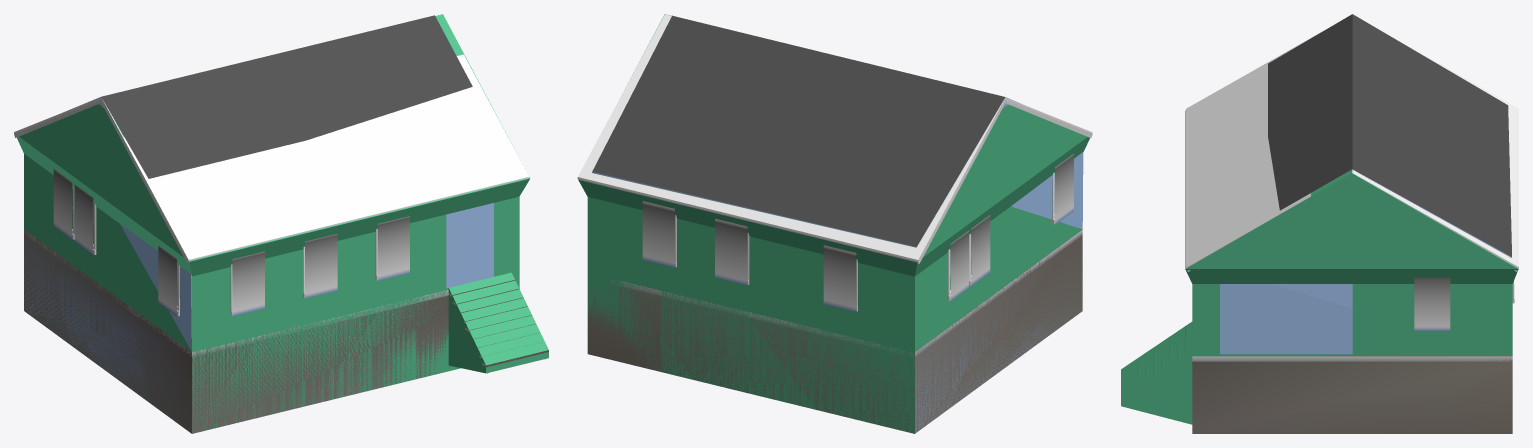
File: eca_bld_house_sml_01.dae
3 views of the same model, side by side, from view 1: azimuth 30°, elevation 25°; view 2: azimuth 150°, elevation 25°; view 3: azimuth 270°, elevation 25° (orthographic). The views are drawn at different scales.
Visible parts, largest first — view 1: Colmesh-1, ind_bld_a60, ind_bld_a100, ind_bld_a400; view 2: ind_bld_a60, Colmesh-1, ind_bld_a100, ind_bld_a400; view 3: ind_bld_a60, Colmesh-1, ind_bld_a100, ind_bld_a400.
Part boxes in pixels (x1,y1,x2,y2): Colmesh-1: [17, 14, 548, 432]; ind_bld_a60: [24, 15, 493, 432]; ind_bld_a100: [14, 99, 548, 433]; ind_bld_a400: [14, 14, 529, 366]; ind_bld_a60: [587, 15, 1083, 431]; Colmesh-1: [577, 14, 1089, 433]; ind_bld_a100: [578, 99, 1092, 433]; ind_bld_a400: [577, 14, 1092, 311]; ind_bld_a60: [1192, 14, 1512, 433]; Colmesh-1: [1121, 110, 1518, 424]; ind_bld_a100: [1137, 270, 1517, 433]; ind_bld_a400: [1186, 28, 1518, 303].
Bounding box in the file's own units: 9.42 × 9.97 × 7.31.
